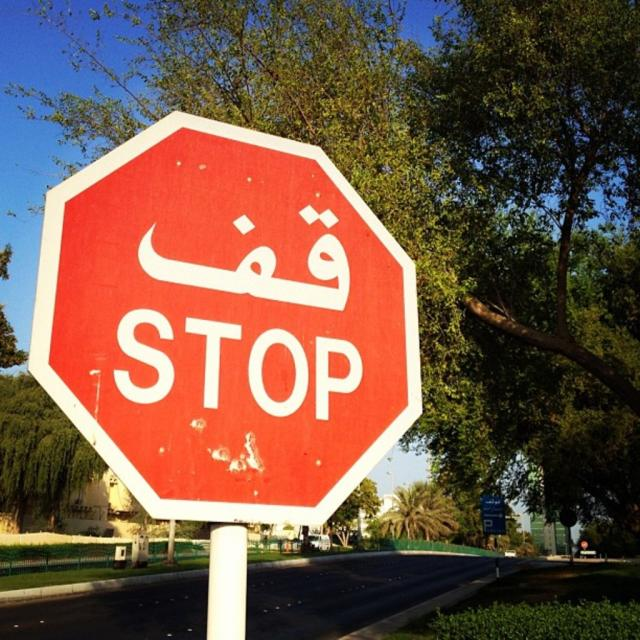Stop-sign: (25, 110, 427, 530)
